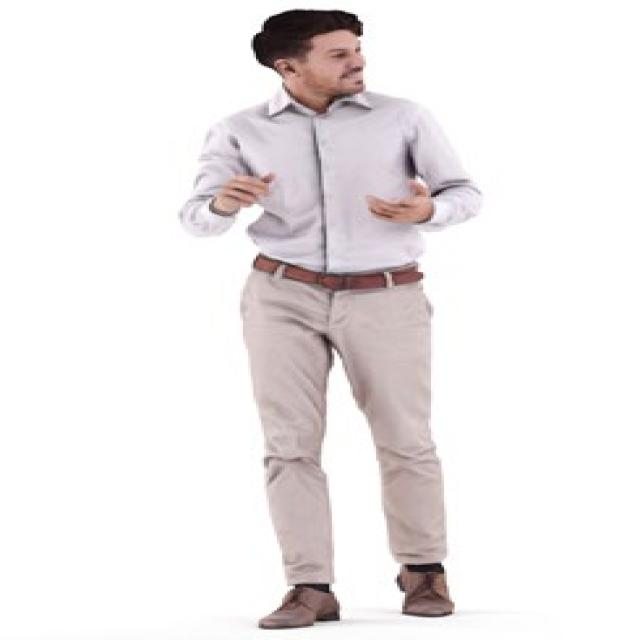standing: (179, 5, 488, 636)
